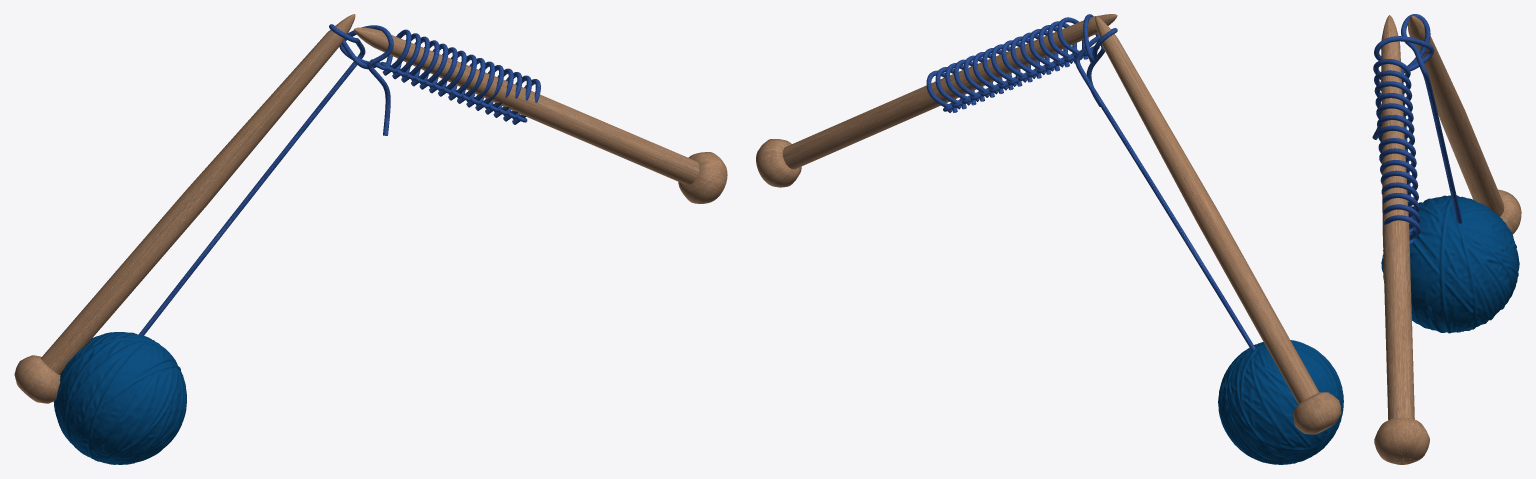
The model's file is purl3.glb.
3 views of the same model, side by side, from view 1: azimuth 30°, elevation 25°; view 2: azimuth 150°, elevation 25°; view 3: azimuth 270°, elevation 25° (orthographic). The views are drawn at different scales.
Visible parts, largest first — view 1: SM_Globe6HD_retopo_blinn2_0_4, niddle.001, niddle, topring.015; view 2: niddle.001, SM_Globe6HD_retopo_blinn2_0_4, niddle, topring.015; view 3: SM_Globe6HD_retopo_blinn2_0_4, niddle, niddle.001, topring.015, topring, topring.012, topring.013, topring.014, topring.010, topring.008, topring.011, topring.007 (+7 smaller).
Boxes of the visible parts, x1=… form: SM_Globe6HD_retopo_blinn2_0_4: x1=53, y1=332, x2=186, y2=464; niddle.001: x1=14, y1=14, x2=355, y2=403; niddle: x1=354, y1=27, x2=727, y2=203; topring.015: x1=138, y1=24, x2=393, y2=335; niddle.001: x1=1095, y1=16, x2=1341, y2=434; SM_Globe6HD_retopo_blinn2_0_4: x1=1218, y1=340, x2=1343, y2=464; niddle: x1=756, y1=14, x2=1117, y2=187; topring.015: x1=1075, y1=14, x2=1255, y2=350; SM_Globe6HD_retopo_blinn2_0_4: x1=1381, y1=195, x2=1519, y2=333; niddle: x1=1374, y1=15, x2=1429, y2=464; niddle.001: x1=1408, y1=15, x2=1521, y2=234; topring.015: x1=1372, y1=14, x2=1462, y2=223; topring: x1=1383, y1=215, x2=1420, y2=240; topring.012: x1=1374, y1=81, x2=1412, y2=105; topring.013: x1=1374, y1=70, x2=1411, y2=94; topring.014: x1=1373, y1=59, x2=1410, y2=82; topring.010: x1=1376, y1=103, x2=1413, y2=127; topring.008: x1=1377, y1=125, x2=1414, y2=150; topring.011: x1=1375, y1=93, x2=1412, y2=116; topring.007: x1=1378, y1=138, x2=1415, y2=162.
Bounding box in the file's own units: 5.88 × 3.45 × 1.11.
Materials: 3 (2 with a texture image).
